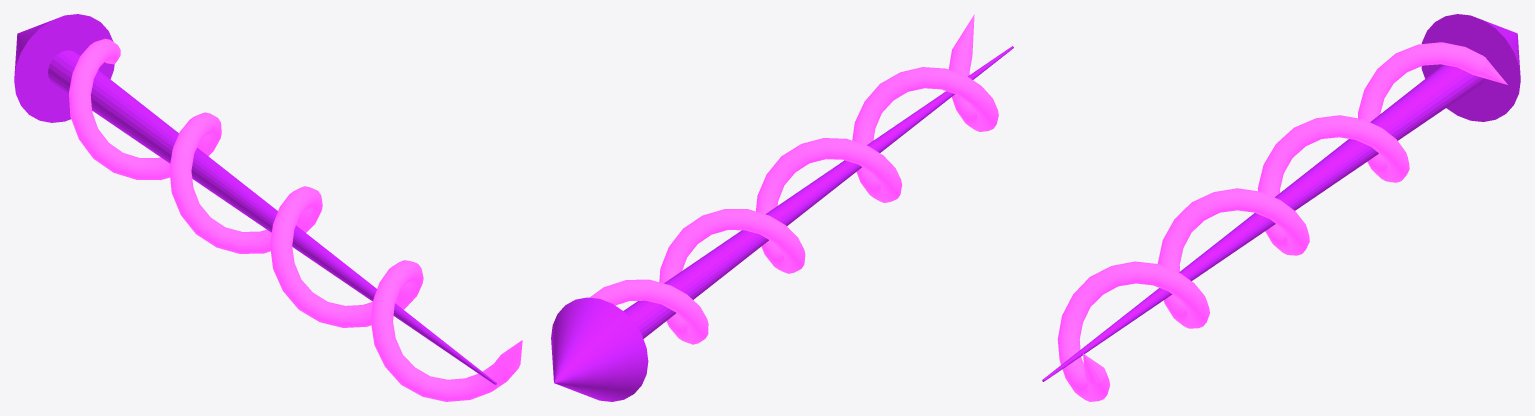
The model's file is spellchase energy beam.fbx.
3 renders of one model, left to right at view 1: azimuth 30°, elevation 25°; view 2: azimuth 150°, elevation 25°; view 3: azimuth 330°, elevation 25°, orthographic. The views are drawn at different scales.
Parts seen in each view (by area): view 1: Spring001, Cone001; view 2: Spring001, Cone001; view 3: Spring001, Cone001.
Part boxes in pixels (bbox=[...]): Spring001: bbox=[69, 38, 522, 401]; Cone001: bbox=[14, 14, 496, 384]; Spring001: bbox=[590, 14, 998, 344]; Cone001: bbox=[551, 46, 1013, 401]; Spring001: bbox=[1057, 42, 1507, 401]; Cone001: bbox=[1042, 14, 1520, 381].
Bounding box in the file's own units: 27.2 × 222 × 27.2.
